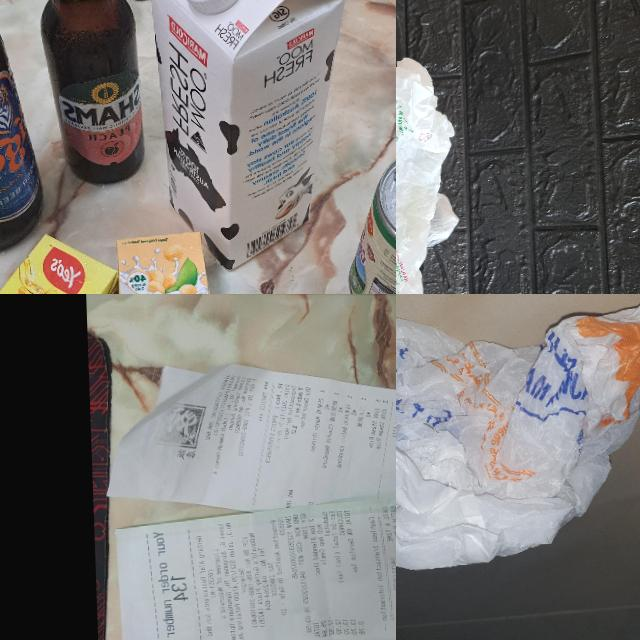caixinha: (148, 0, 356, 273), (0, 230, 123, 294), (114, 229, 228, 294)
garrafa de vidro: (35, 0, 143, 187), (0, 0, 45, 256)
lata: (344, 145, 396, 294)
papel: (115, 358, 396, 640)
sacola plástica: (396, 300, 640, 573), (396, 52, 465, 294)
